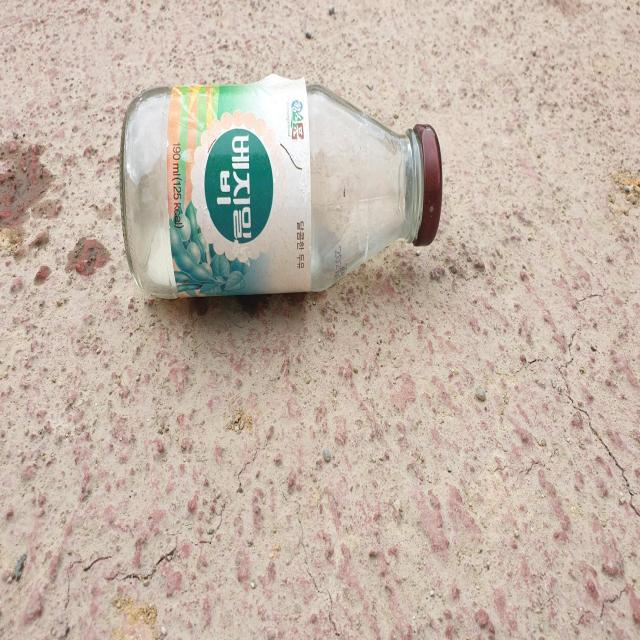glass: (120, 73, 442, 297)
